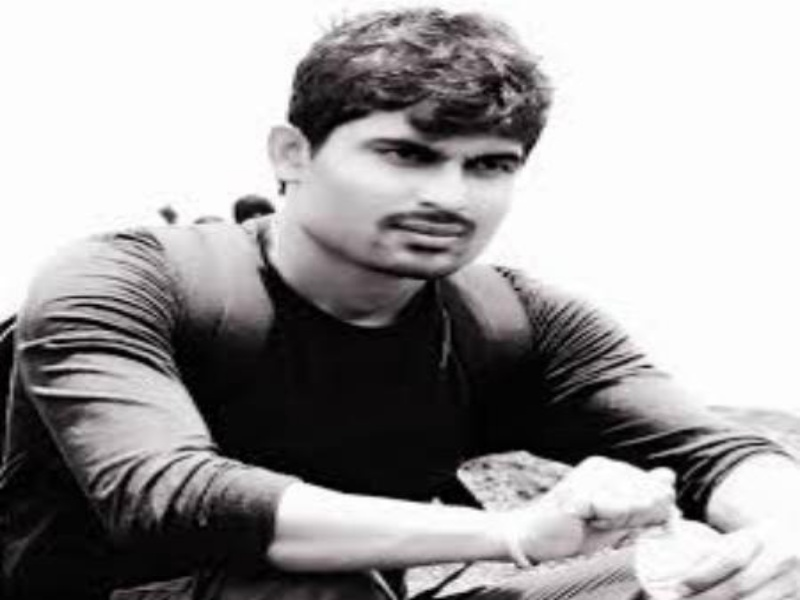TsisyArotava: (246, 6, 570, 302)
